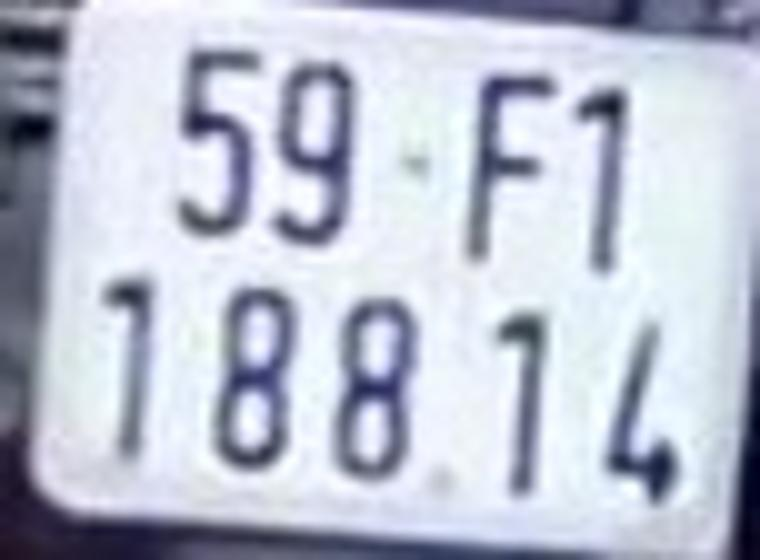-: (389, 139, 437, 187)
.: (417, 460, 463, 505)
1: (494, 305, 562, 503), (574, 72, 635, 281), (94, 268, 155, 459)
4: (590, 327, 679, 507)
5: (173, 42, 262, 245)
8: (331, 289, 415, 486), (214, 278, 296, 479)
9: (272, 55, 363, 254)
F: (462, 60, 566, 272)
